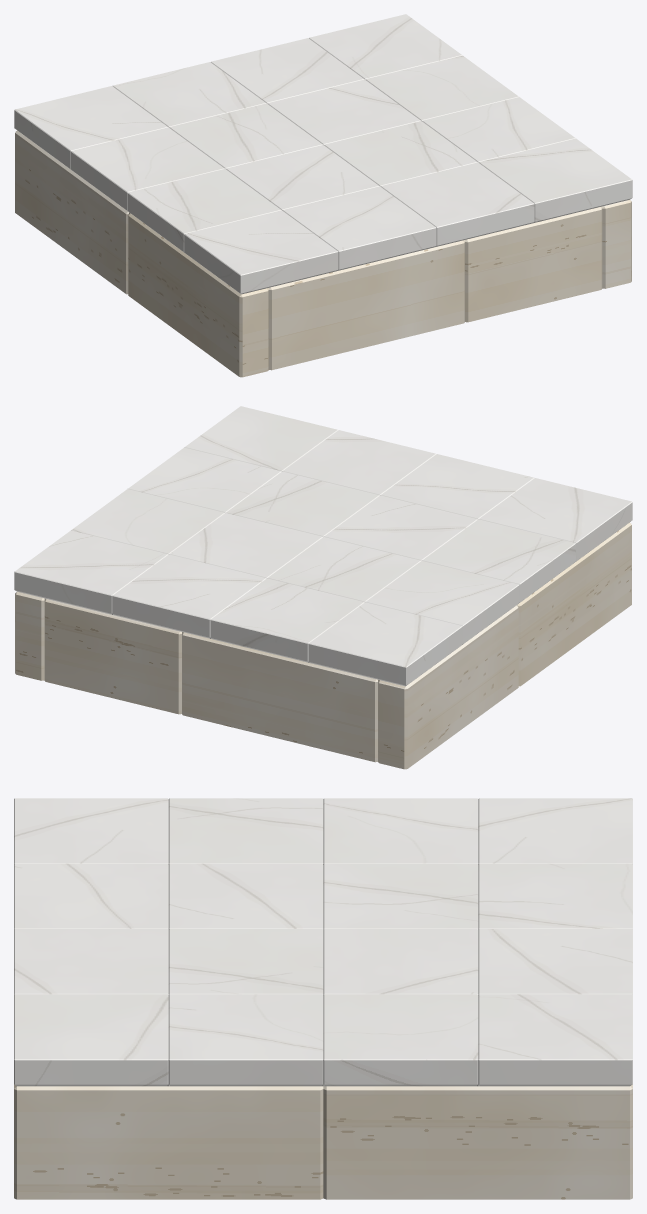
3 views of the same model, one above another, from view 1: azimuth 30°, elevation 25°; view 2: azimuth 150°, elevation 25°; view 3: azimuth 270°, elevation 25° (orthographic). The views are drawn at different scales.
Visible parts, largest first — view 1: Mesh_deck_4; view 2: Mesh_deck_4; view 3: Mesh_deck_4.
Boxes of the visible parts, left/top/right/bottom form: Mesh_deck_4: left=14, top=14, right=632, bottom=377; Mesh_deck_4: left=14, top=406, right=632, bottom=769; Mesh_deck_4: left=14, top=798, right=632, bottom=1199.
Size of the model in its own units: 4 by 1 by 4.
Materials: 1 (1 with a texture image).
